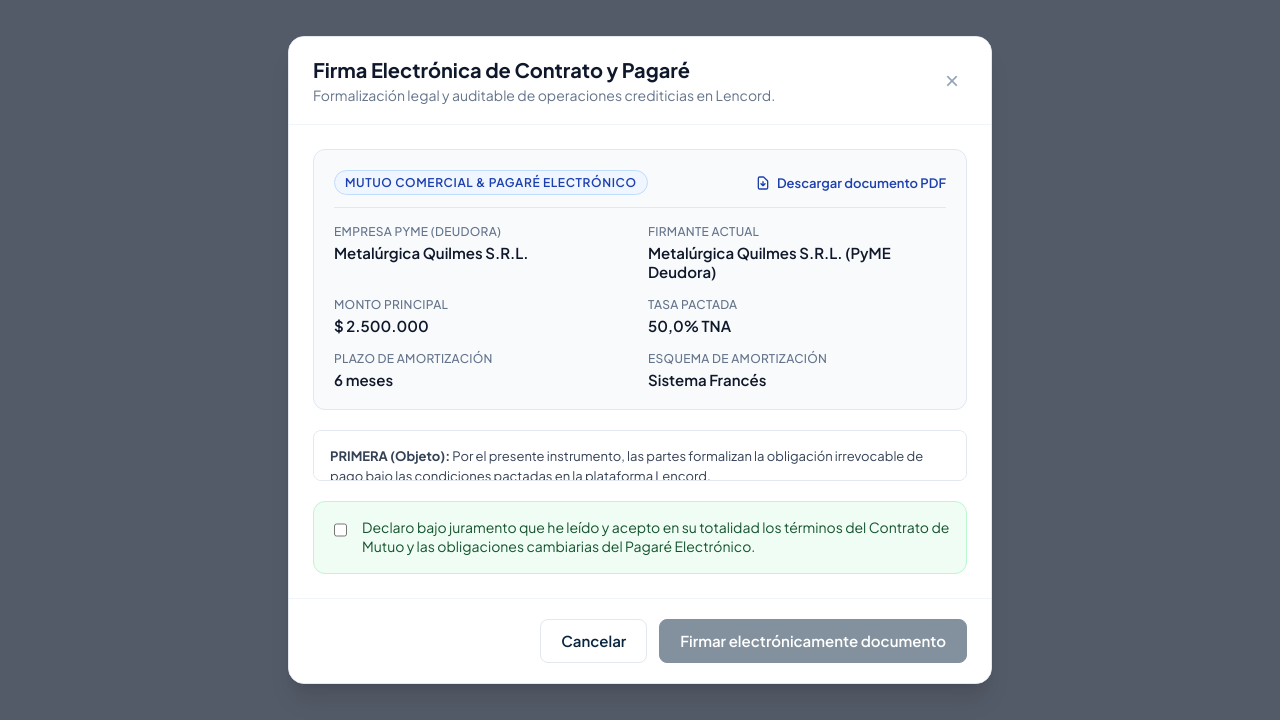
Test: ElectronicSignatureModal Component (Issue #67) › generates cryptographic SHA-256 hash and registers electronic signature with audit metadata
expect the link with test id "download-pdf-link" is shown: met, box [755, 174, 946, 190]
Click the checkbox with test id "consent-checkbox" at {"x": 340, "y": 530}, box [334, 521, 347, 539]
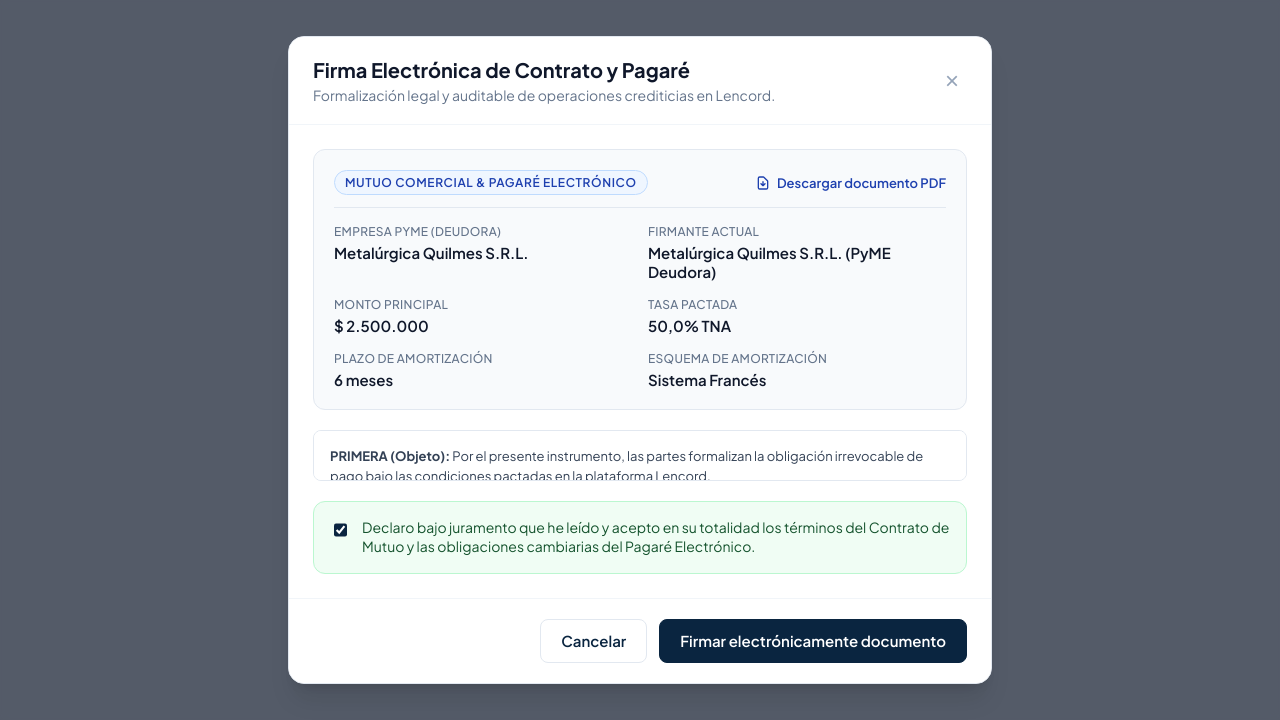
Click the button with test id "btn-sign-contract" at {"x": 813, "y": 641}, box [659, 619, 967, 663]
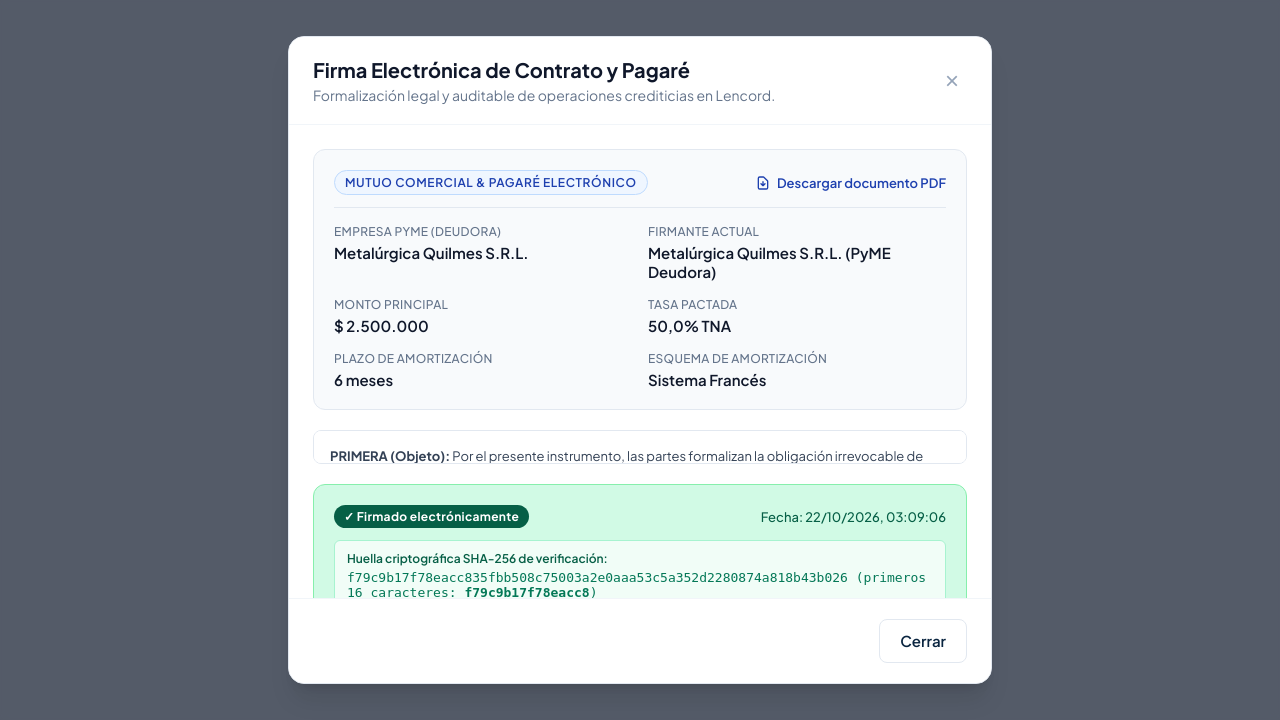
expect the text with test id "signed-status-pill" shows "Firmado electrónicamente": met, box [344, 509, 519, 524]
expect the element with test id "signed-hash-prefix" is shown: met, box [347, 570, 933, 598]
expect the button with test id "btn-sign-contract" is gone: met
